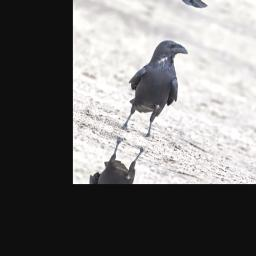Crow: (110, 31, 199, 145)
